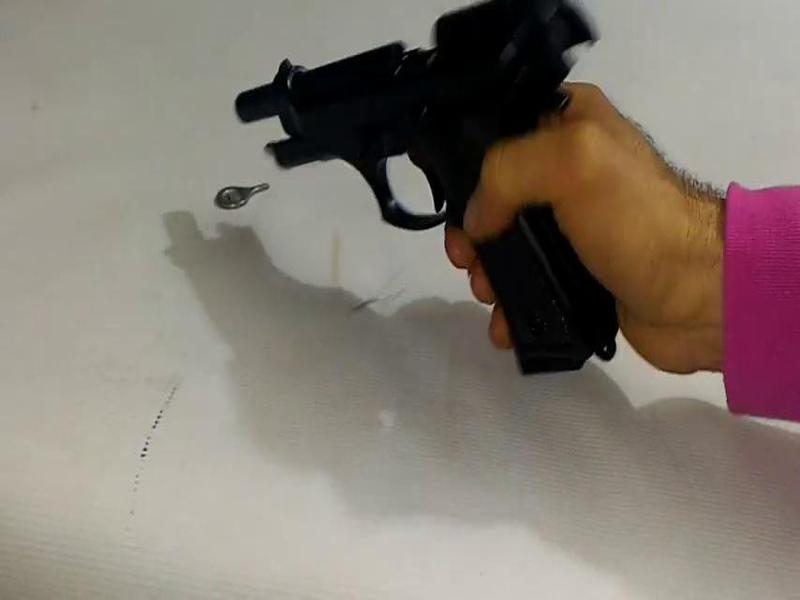Pistola: (214, 1, 644, 375)
